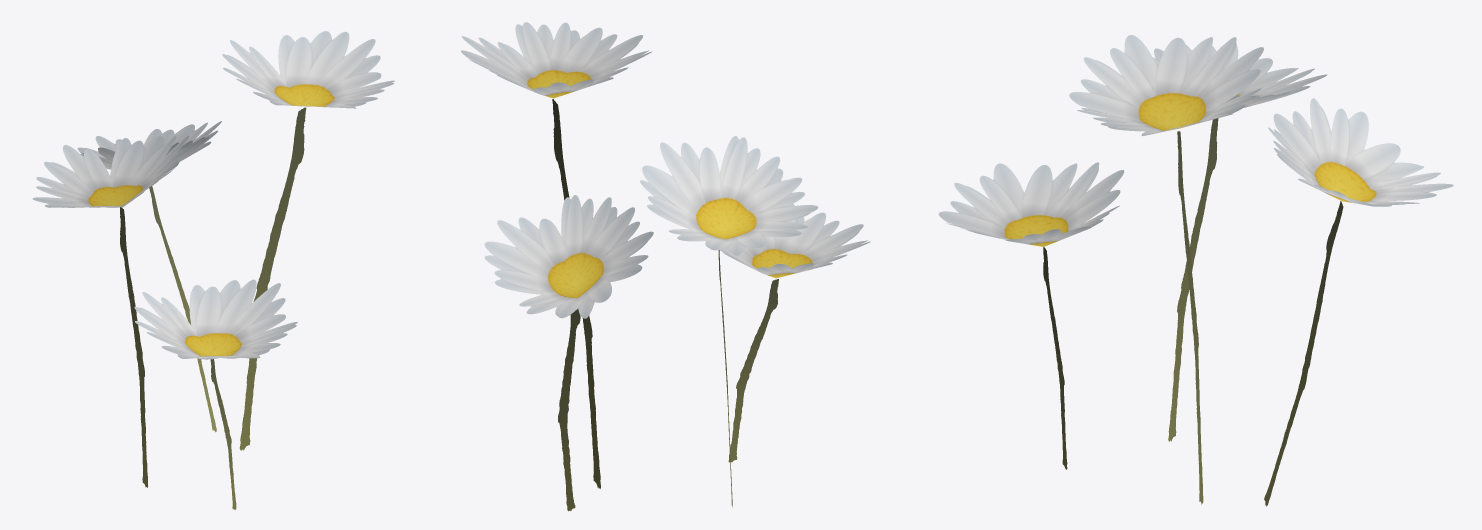
File: flower_daisy.fbx
3 views of the same model, side by side, from view 1: azimuth 30°, elevation 25°; view 2: azimuth 150°, elevation 25°; view 3: azimuth 270°, elevation 25° (orthographic). The views are drawn at different scales.
Visible parts, largest first — view 1: flower_daisy; view 2: flower_daisy; view 3: flower_daisy.
Part boxes in pixels (x1=…): flower_daisy: x1=32, y1=31, x2=394, y2=509; flower_daisy: x1=461, y1=22, x2=870, y2=511; flower_daisy: x1=938, y1=35, x2=1453, y2=506.
Bounding box in the file's own units: 36.56 × 39.72 × 41.62.
